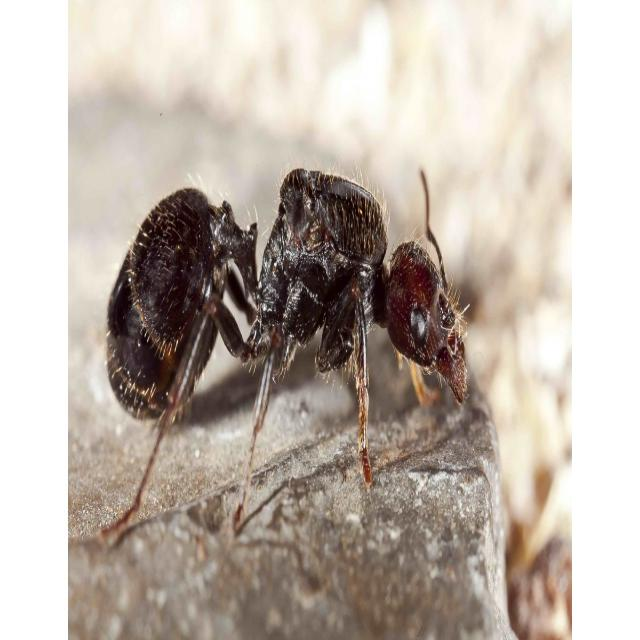Queen: (100, 169, 468, 537)
